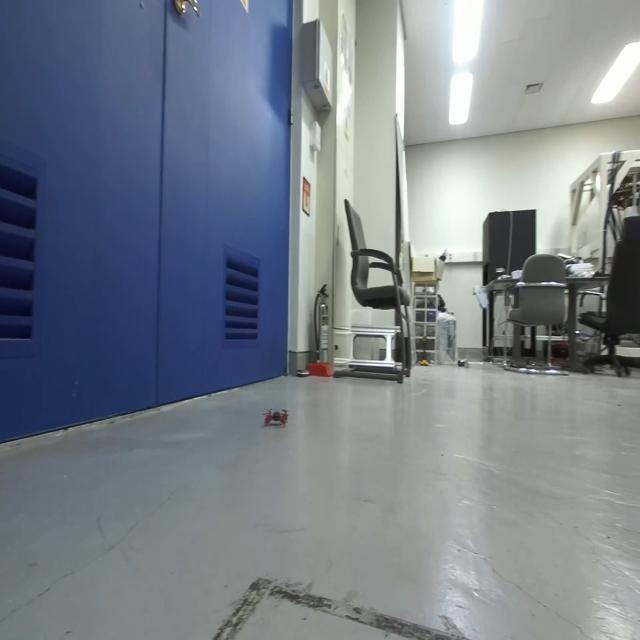crazyflie: (262, 402, 290, 433)
